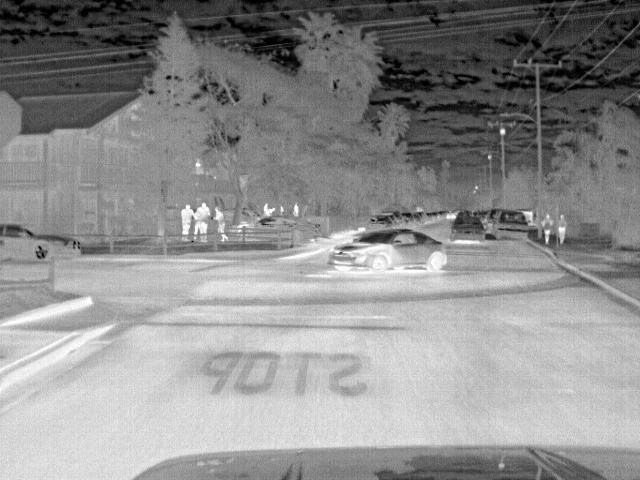car: (326, 228, 449, 274), (1, 221, 84, 269), (487, 206, 534, 242), (450, 213, 487, 243), (296, 218, 323, 246), (251, 214, 296, 228), (366, 216, 394, 230), (383, 210, 406, 226), (400, 212, 417, 227)
person: (177, 202, 197, 236), (538, 211, 558, 242), (194, 202, 212, 234), (211, 206, 228, 232), (555, 212, 568, 245), (290, 202, 303, 218), (261, 200, 273, 214)
